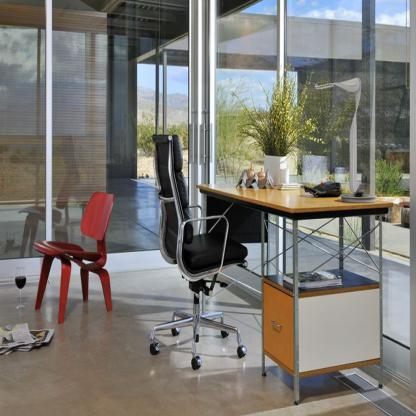chair: (144, 129, 251, 385), (27, 179, 125, 325)
table: (198, 179, 399, 406)
